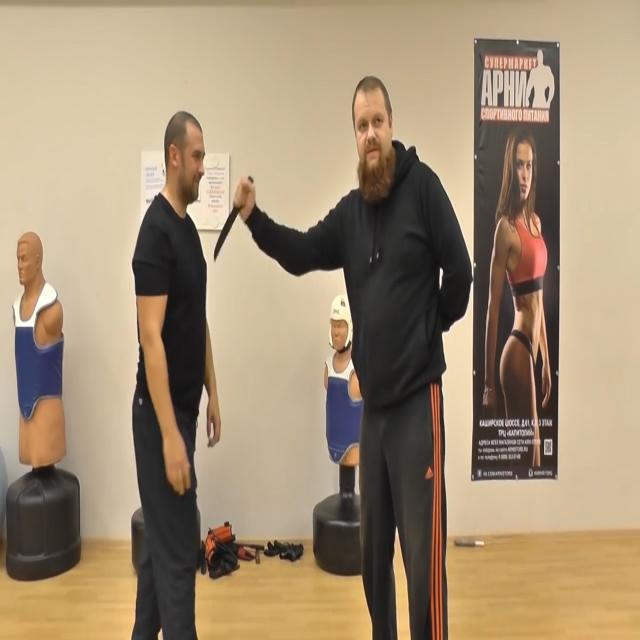knife: (212, 176, 257, 263)
